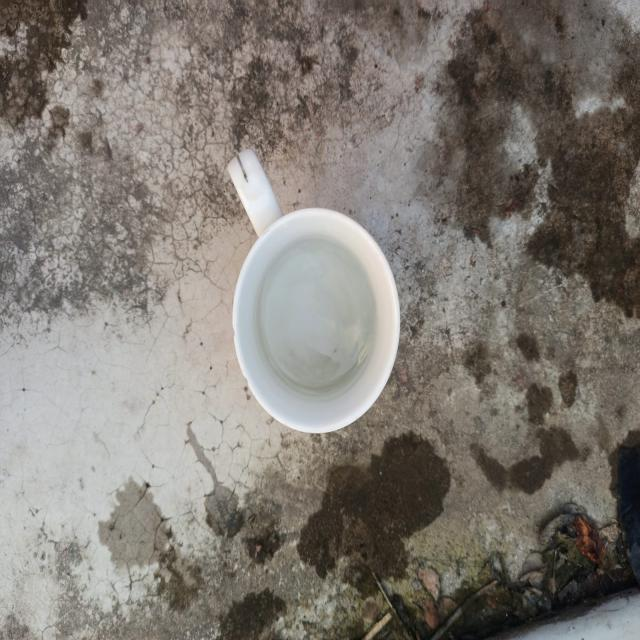Breeding Place: (210, 134, 418, 444)
